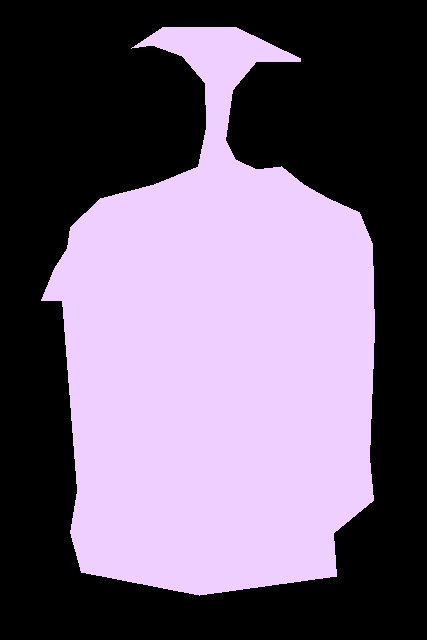Train: (41, 27, 375, 596)
